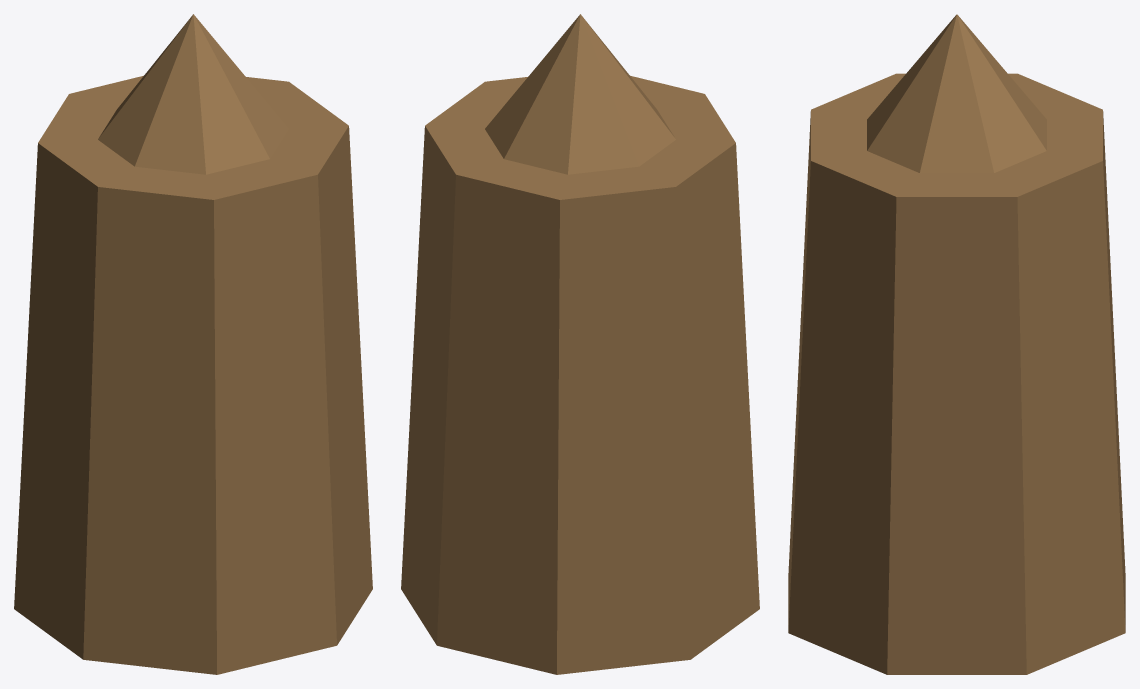
The model's file is wall_t1_post.glb.
The picture shows the model from 3 angles, left to right: view 1: azimuth 30°, elevation 25°; view 2: azimuth 150°, elevation 25°; view 3: azimuth 270°, elevation 25°; orthographic projection.
Visible parts, largest first — view 1: body; view 2: body; view 3: body.
Part boxes in pixels (x1,y1,x2,y2): body: [14, 14, 372, 674]; body: [401, 14, 759, 674]; body: [788, 14, 1125, 674].
Bounding box in the file's own units: 0.5543 × 1.07 × 0.5543.
